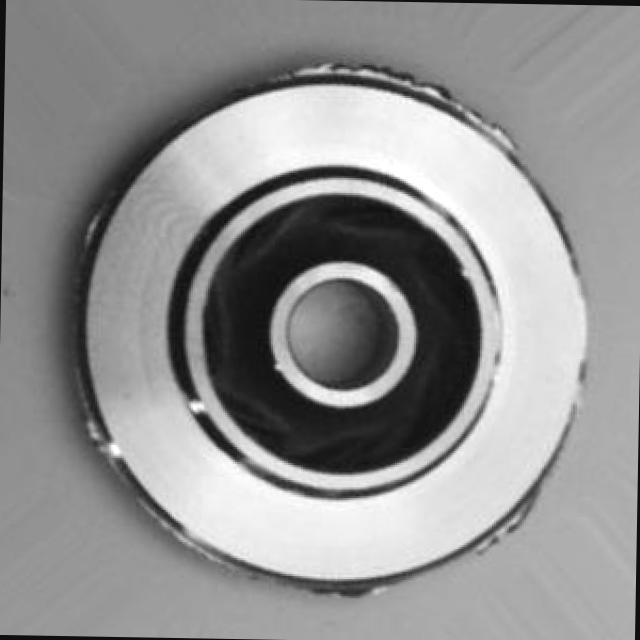Defect: (294, 46, 464, 98)
